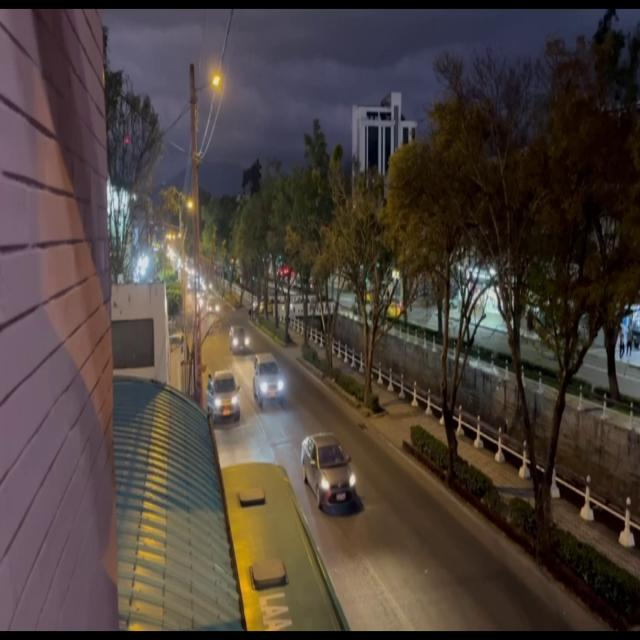CMT: (255, 357, 285, 406)
SUV: (212, 370, 238, 418), (230, 328, 250, 354)
